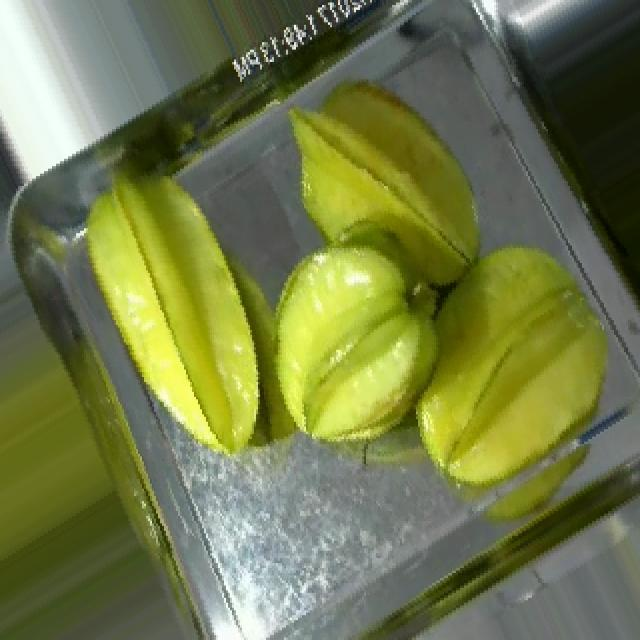fruit: (44, 139, 326, 484), (374, 198, 640, 536), (248, 44, 526, 340), (216, 196, 484, 499), (0, 288, 206, 628)
